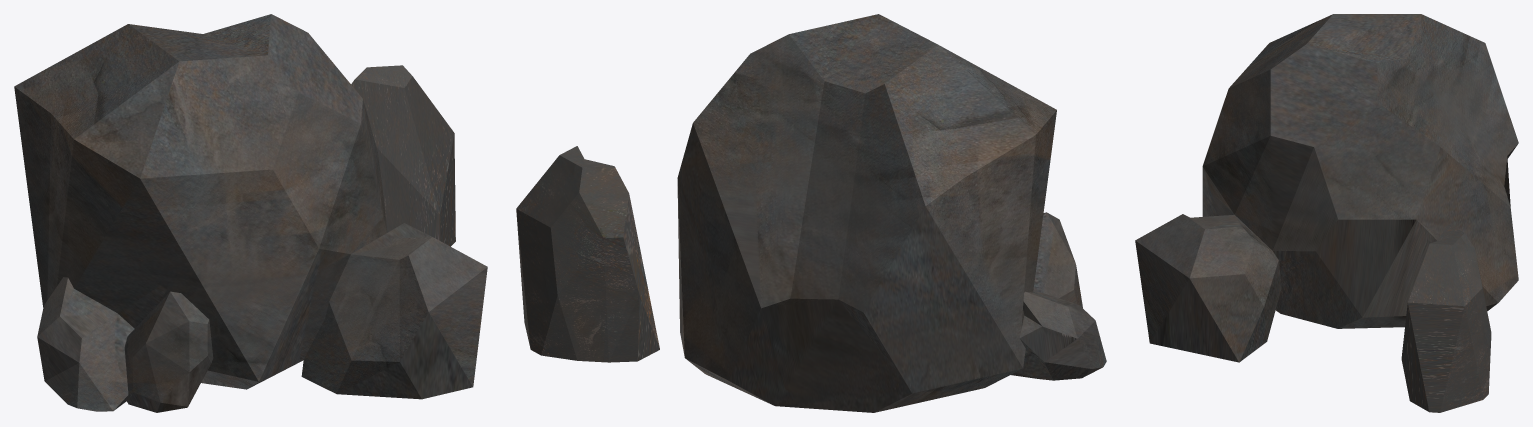
File: Boulder.glb
The picture shows the model from 3 angles, left to right: view 1: azimuth 30°, elevation 25°; view 2: azimuth 150°, elevation 25°; view 3: azimuth 270°, elevation 25°; orthographic projection. The views are drawn at different scales.
Visible parts, largest first — view 1: Boulder; view 2: Boulder; view 3: Boulder.
Boxes of the visible parts, left/top/right/bottom form: Boulder: left=14, top=14, right=487, bottom=412; Boulder: left=516, top=14, right=1106, bottom=412; Boulder: left=1135, top=14, right=1518, bottom=412.
Bounding box in the file's own units: 1.18 × 0.7191 × 0.9648.
Materials: 2 (2 with a texture image).
